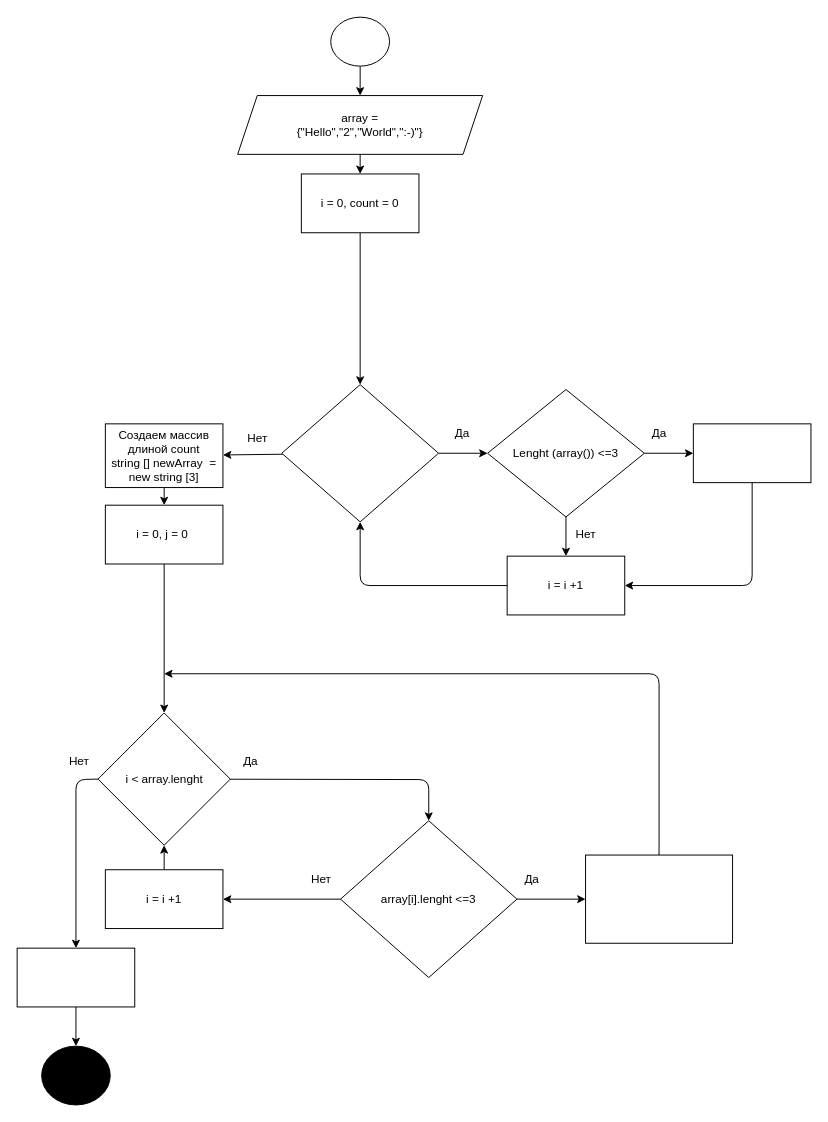
Image size: 828x1122. Some labels were removed from this diagram. The centre of each missing label's shape, as x and y in pixels:
"count = count +1" belongs at (751,453).
"i < array.length" belongs at (360,453).
"newArray[ j ] = array[ i ] j = j +1 i = i +1" belongs at (659,898).
"print(newArray)" belongs at (75,977).
